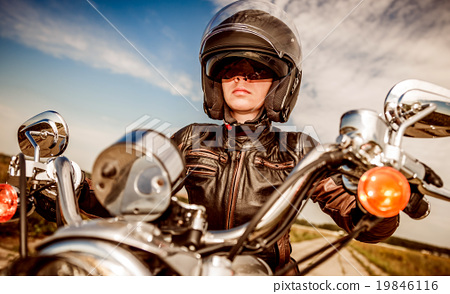helmet: (194, 13, 298, 128)
